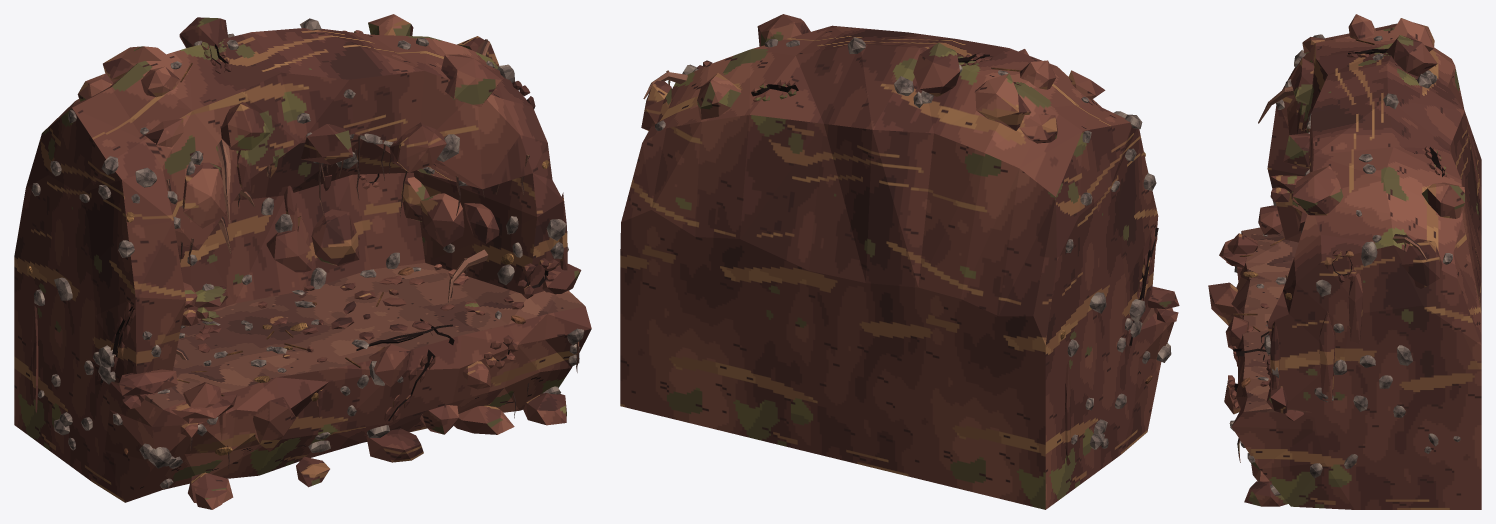
File: SM_AN05_EarthNiche.fbx
The picture shows the model from 3 angles, left to right: view 1: azimuth 30°, elevation 25°; view 2: azimuth 150°, elevation 25°; view 3: azimuth 270°, elevation 25°; orthographic projection. The views are drawn at different scales.
Visible parts, largest first — view 1: AN05a_Earth, AN05a_Floor, AN05a_Props, AN05a_Root; view 2: AN05a_Earth, AN05a_Props; view 3: AN05a_Earth, AN05a_Floor, AN05a_Props, AN05a_Root.
Boxes of the visible parts, x1=… form: AN05a_Earth: x1=14, y1=14, x2=591, y2=509; AN05a_Floor: x1=112, y1=263, x2=584, y2=409; AN05a_Props: x1=28, y1=18, x2=584, y2=488; AN05a_Root: x1=166, y1=39, x2=579, y2=468; AN05a_Earth: x1=620, y1=14, x2=1179, y2=509; AN05a_Props: x1=655, y1=37, x2=1171, y2=449; AN05a_Earth: x1=1208, y1=14, x2=1481, y2=509; AN05a_Floor: x1=1241, y1=227, x2=1311, y2=412; AN05a_Props: x1=1229, y1=23, x2=1460, y2=495; AN05a_Root: x1=1237, y1=72, x2=1427, y2=476.
Bounding box in the file's own units: 3.19 × 2.66 × 1.87.
